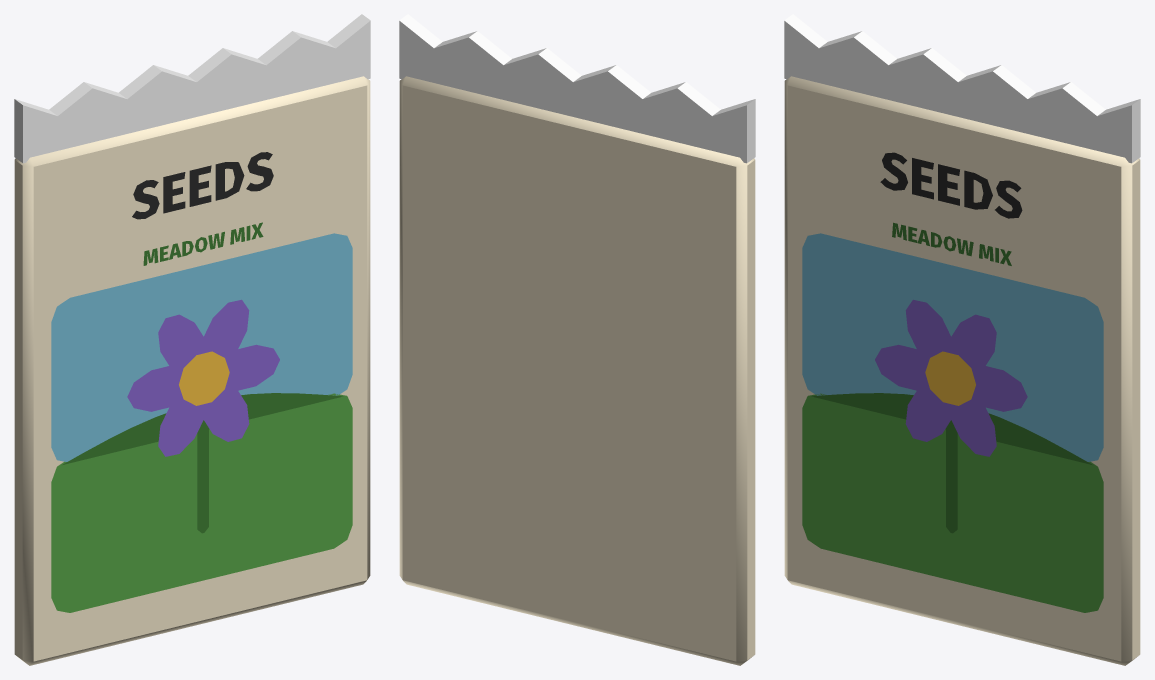
Rendered from seed_packet.fbx.
3 renders of one model, left to right at view 1: azimuth 30°, elevation 25°; view 2: azimuth 150°, elevation 25°; view 3: azimuth 330°, elevation 25°, orthographic.
Visible parts, largest first — view 1: SeedPacket; view 2: SeedPacket; view 3: SeedPacket.
Part boxes in pixels (<box>): SeedPacket: <box>14,14,370,665</box>; SeedPacket: <box>399,14,755,665</box>; SeedPacket: <box>784,14,1140,665</box>.
Size of the model in its own units: 0.075 by 0.116 by 0.0074.
Materials: 1 (1 with a texture image).
